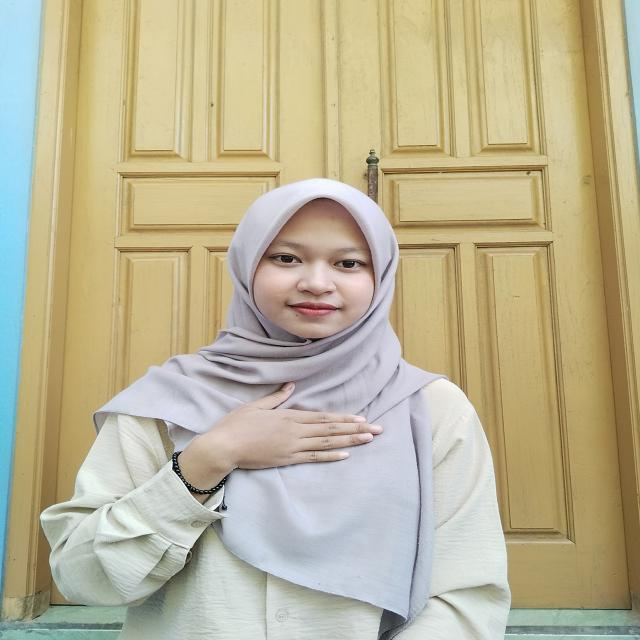tolong: (142, 382, 388, 502)
